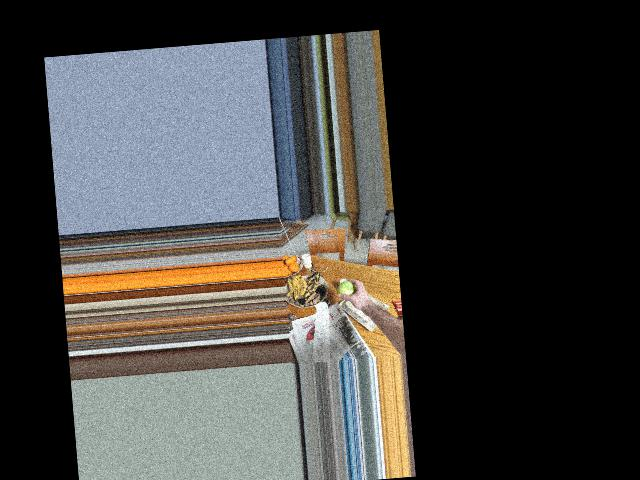apple: (337, 279, 358, 299)
